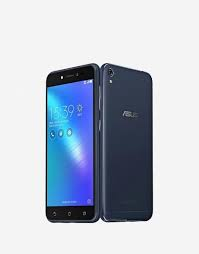asus: (98, 60, 155, 224), (43, 61, 100, 225)
